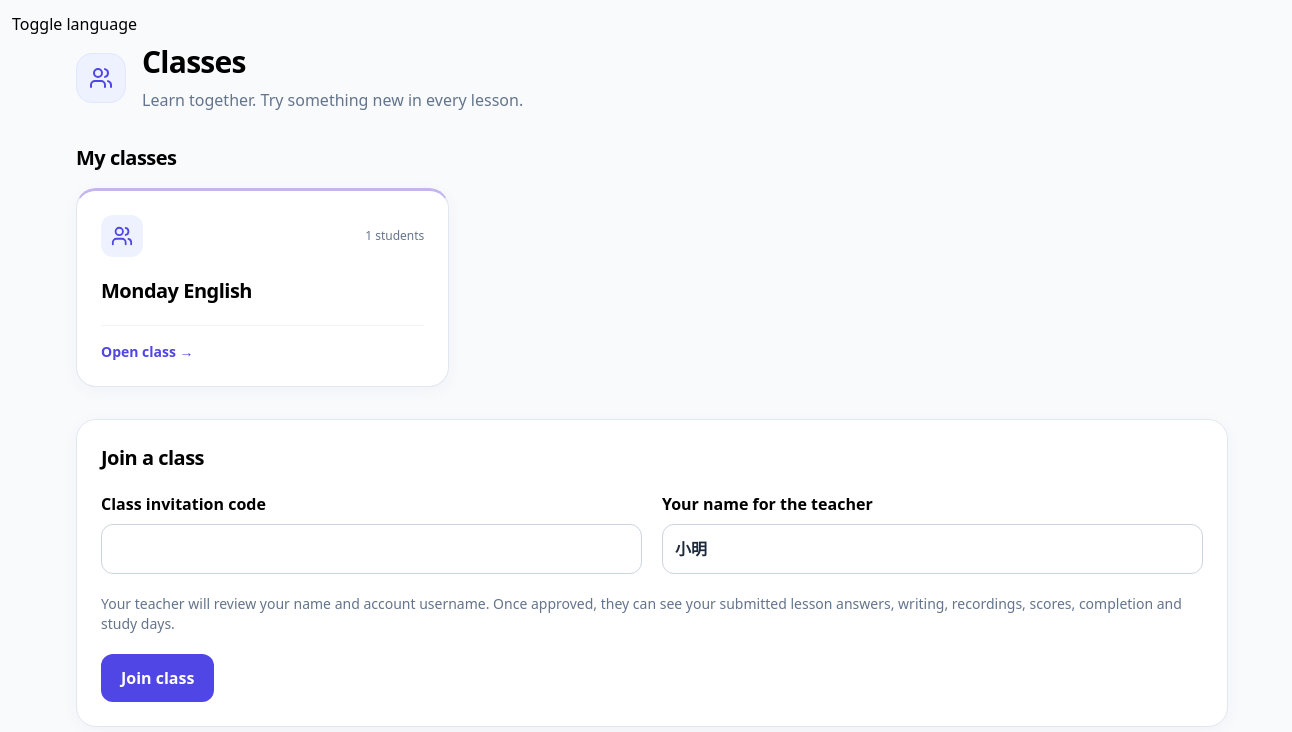
it: student sees the Classes banner only on the class list
This screenshot has width=1292, height=732.
Expected: the heading "Classes" is shown, [142,41,246,82]
Click the button "1 students Monday English Open class →" at (122, 236), box [76,188,449,387]
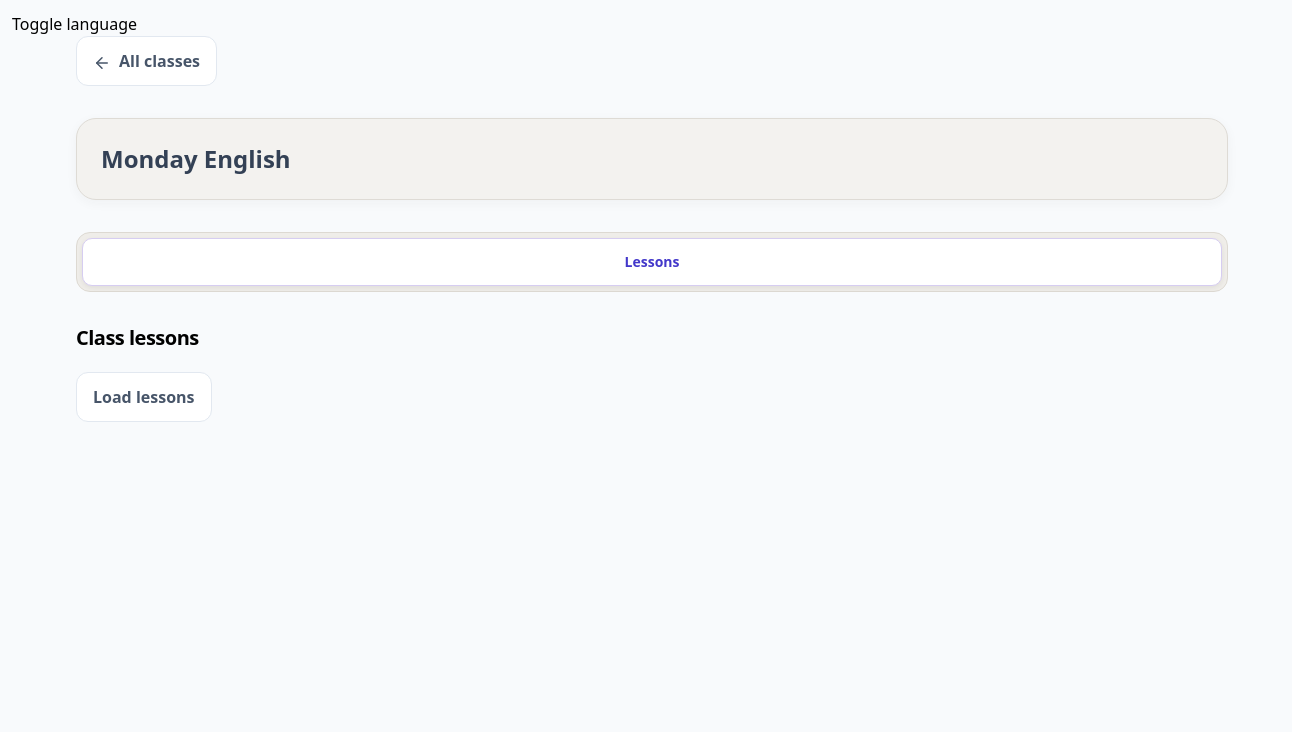
Expected: the heading "Monday English" is shown, [101,142,291,175]
Expected: the heading "Class lessons" is shown, [76,324,199,352]
Expected: the text "Learn together. Try something new in every lesson." is gone
Click the button "All classes" at (146, 61), box [76,36,217,86]
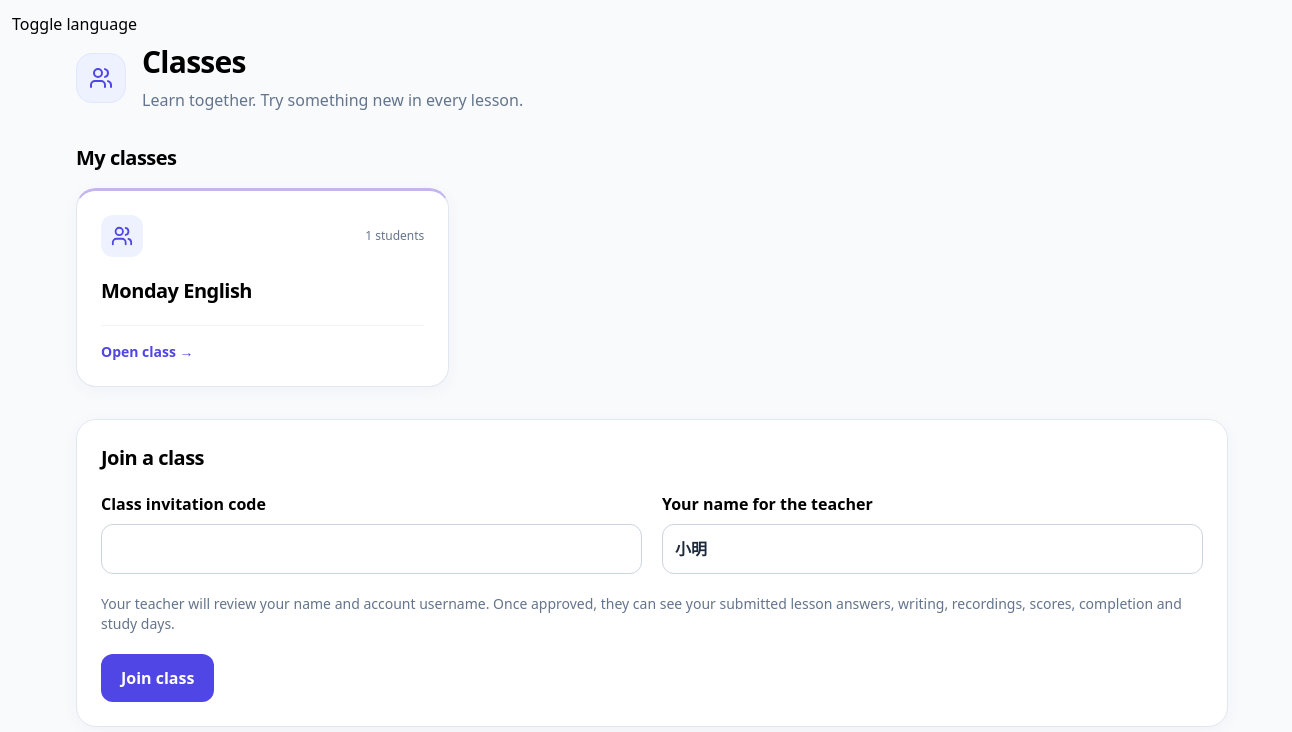
Expected: the heading "My classes" is shown, [76,144,176,171]
Expected: the heading "Classes" is shown, [142,41,246,82]
